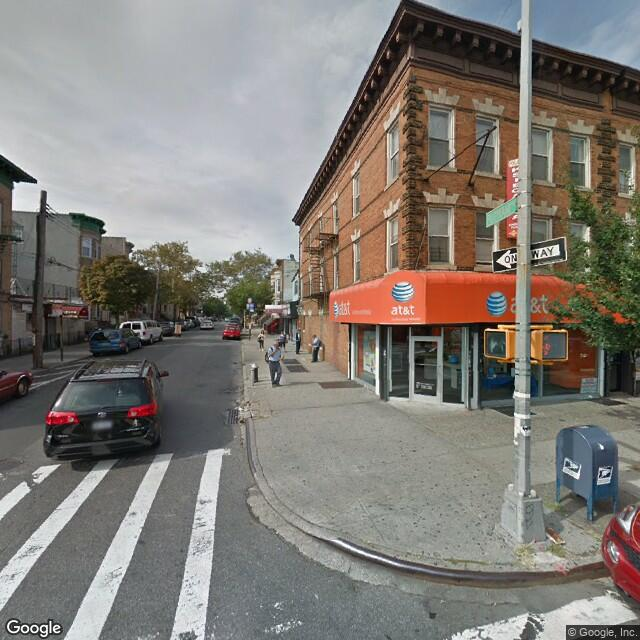litter: (539, 520, 573, 549), (234, 398, 251, 410)
